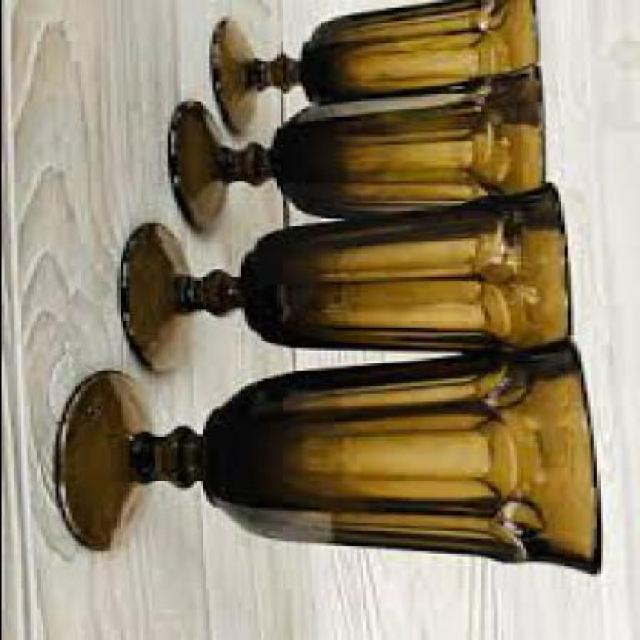glass: (59, 338, 606, 576), (118, 180, 574, 374), (169, 61, 548, 237), (213, 0, 541, 135)
